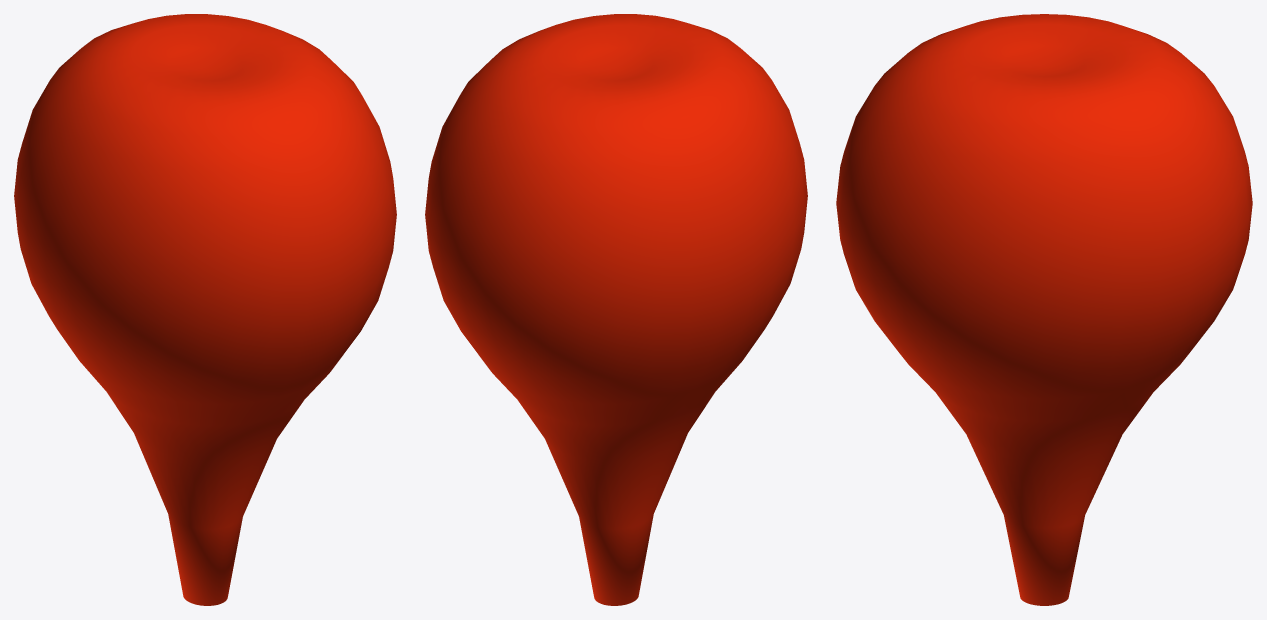
The model's file is PochevoiMuzir.fbx.
3 renders of one model, left to right at view 1: azimuth 30°, elevation 25°; view 2: azimuth 150°, elevation 25°; view 3: azimuth 270°, elevation 25°, orthographic.
Visible parts, largest first — view 1: Sphere; view 2: Sphere; view 3: Sphere.
Part boxes in pixels (box(x1,y1,x2,y2)): Sphere: box(14, 14, 396, 605); Sphere: box(425, 14, 807, 605); Sphere: box(836, 14, 1252, 605).
Bounding box in the file's own units: 180 × 287 × 200.
